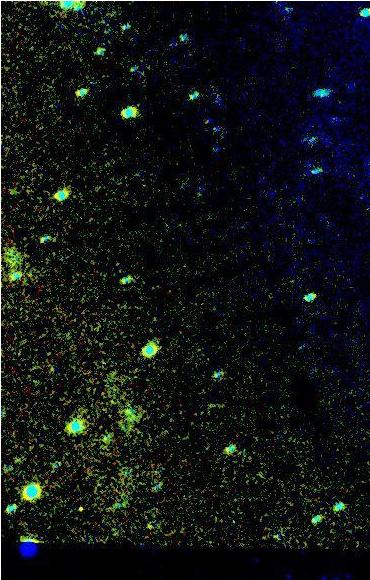star: (62, 492, 92, 522)
